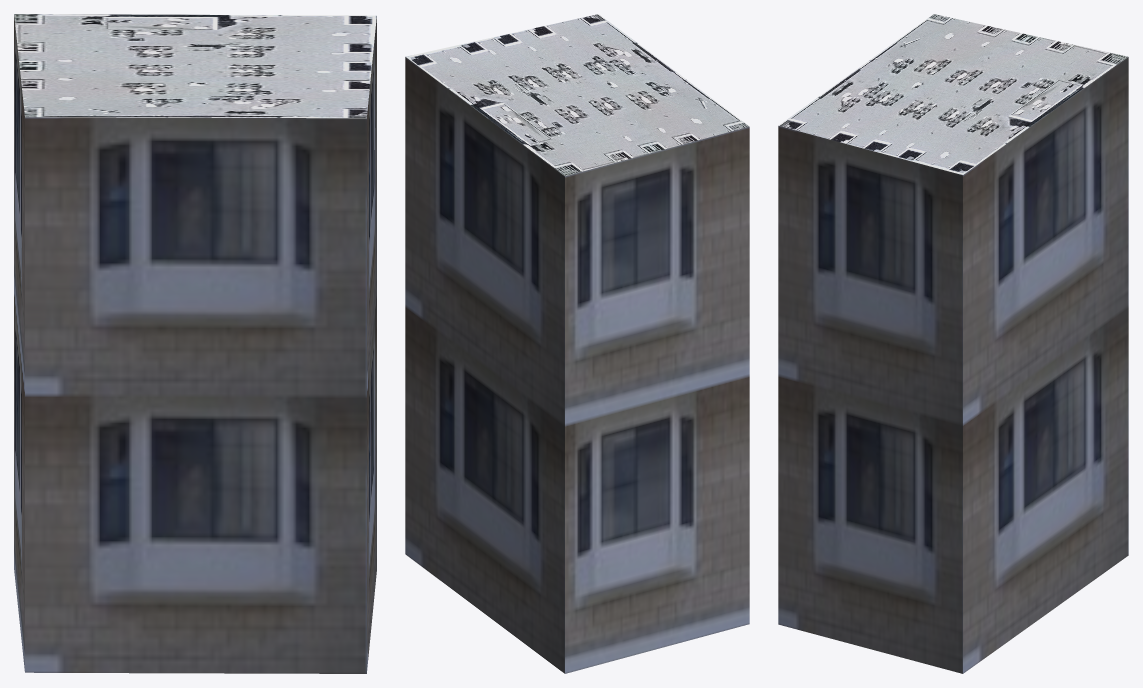
File: ResTex__694.fbx
3 renders of one model, left to right at view 1: azimuth 30°, elevation 25°; view 2: azimuth 150°, elevation 25°; view 3: azimuth 270°, elevation 25°, orthographic. The views are drawn at different scales.
Parts seen in each view (by area): view 1: CityEngineMaterial_3_m, CityEngineMaterial_m; view 2: CityEngineMaterial_3_m, CityEngineMaterial_m; view 3: CityEngineMaterial_3_m, CityEngineMaterial_m.
Boxes of the visible parts, x1=… form: CityEngineMaterial_3_m: x1=14, y1=14, x2=376, y2=673; CityEngineMaterial_m: x1=14, y1=14, x2=376, y2=118; CityEngineMaterial_3_m: x1=405, y1=57, x2=749, y2=673; CityEngineMaterial_m: x1=406, y1=14, x2=748, y2=176; CityEngineMaterial_3_m: x1=778, y1=57, x2=1128, y2=673; CityEngineMaterial_m: x1=778, y1=14, x2=1128, y2=174.
Bounding box in the file's own units: 4.16 × 6 × 3.82.
2 materials, 2 textured.
